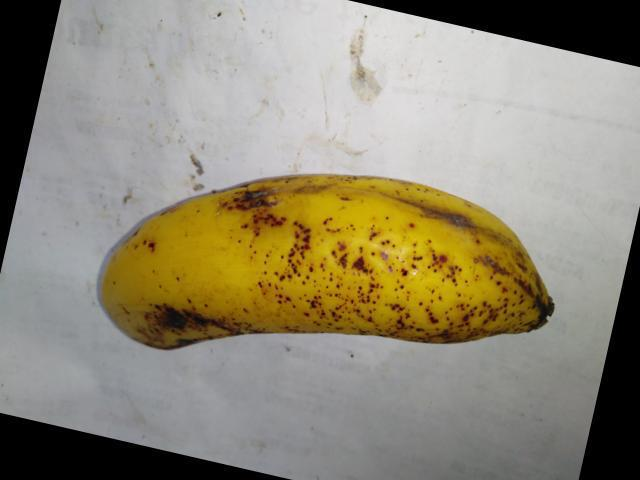rotten: (358, 162, 534, 251), (139, 285, 232, 381), (192, 145, 295, 231)
